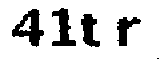1: (47, 6, 79, 52)
4: (7, 5, 46, 50)
r: (113, 13, 142, 52)
t: (80, 12, 106, 53)
